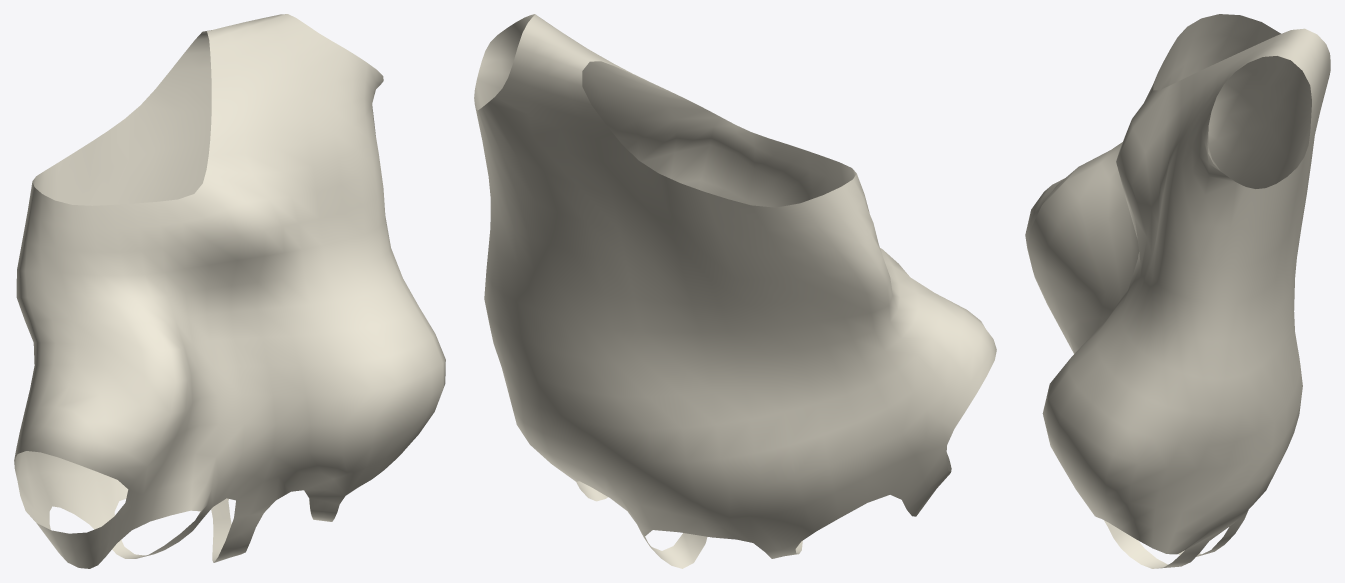
3 renders of one model, left to right at view 1: azimuth 30°, elevation 25°; view 2: azimuth 150°, elevation 25°; view 3: azimuth 270°, elevation 25°, orthographic. The views are drawn at different scales.
Parts seen in each view (by area): view 1: ZA_5484c691a021b45d; view 2: ZA_5484c691a021b45d; view 3: ZA_5484c691a021b45d.
Part boxes in pixels (x1,y1,x2,y2): ZA_5484c691a021b45d: [14, 14, 445, 568]; ZA_5484c691a021b45d: [474, 14, 996, 568]; ZA_5484c691a021b45d: [1025, 14, 1330, 568].
Bounding box in the file's own units: 0.0549 × 0.0611 × 0.0303.
